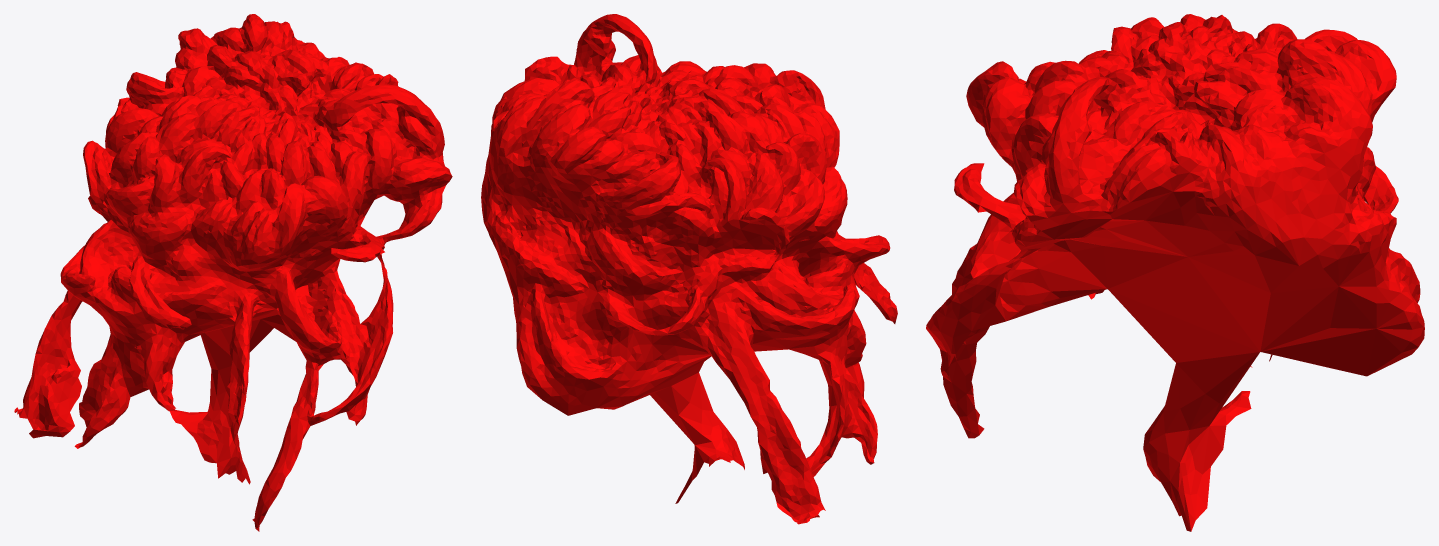
File: flower10.glb
3 views of the same model, side by side, from view 1: azimuth 30°, elevation 25°; view 2: azimuth 150°, elevation 25°; view 3: azimuth 270°, elevation 25° (orthographic). The views are drawn at different scales.
Bounding box in the file's own units: 126 × 150 × 130.
